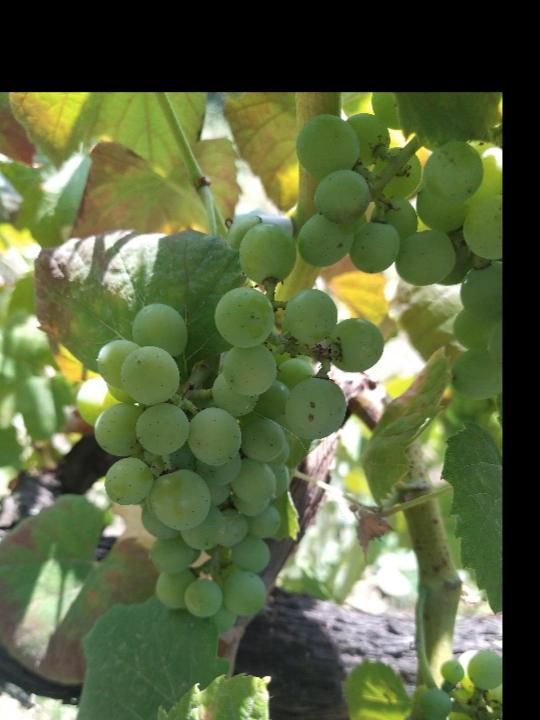grape: (75, 218, 386, 635)
